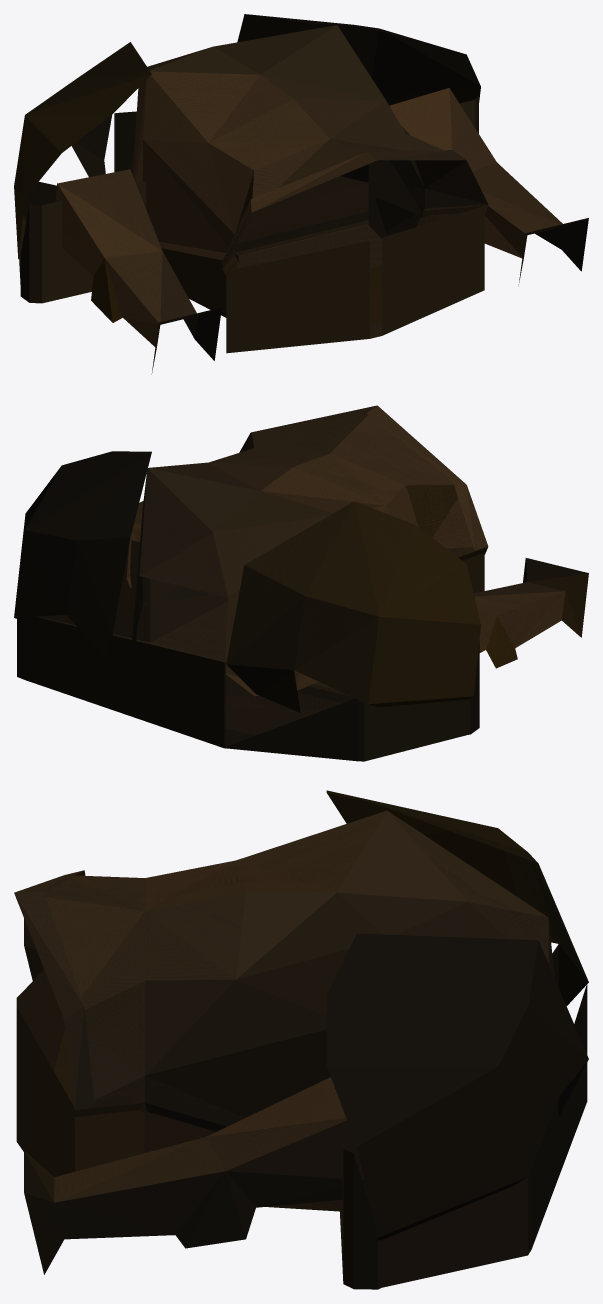
Rendered from bronze-platebody.obj.
The picture shows the model from 3 angles, top to bottom: view 1: azimuth 30°, elevation 25°; view 2: azimuth 150°, elevation 25°; view 3: azimuth 270°, elevation 25°; orthographic projection. The views are drawn at different scales.
Visible parts, largest first — view 1: Item Bronze platebody 2026-09-24_18-09-27; view 2: Item Bronze platebody 2026-09-24_18-09-27; view 3: Item Bronze platebody 2026-09-24_18-09-27.
Part boxes in pixels (box(x1,y1,x2,y2)): Item Bronze platebody 2026-09-24_18-09-27: box(14, 14, 588, 374); Item Bronze platebody 2026-09-24_18-09-27: box(14, 405, 588, 761); Item Bronze platebody 2026-09-24_18-09-27: box(14, 790, 588, 1289).
Size of the model in its own units: 72 by 30 by 57.
